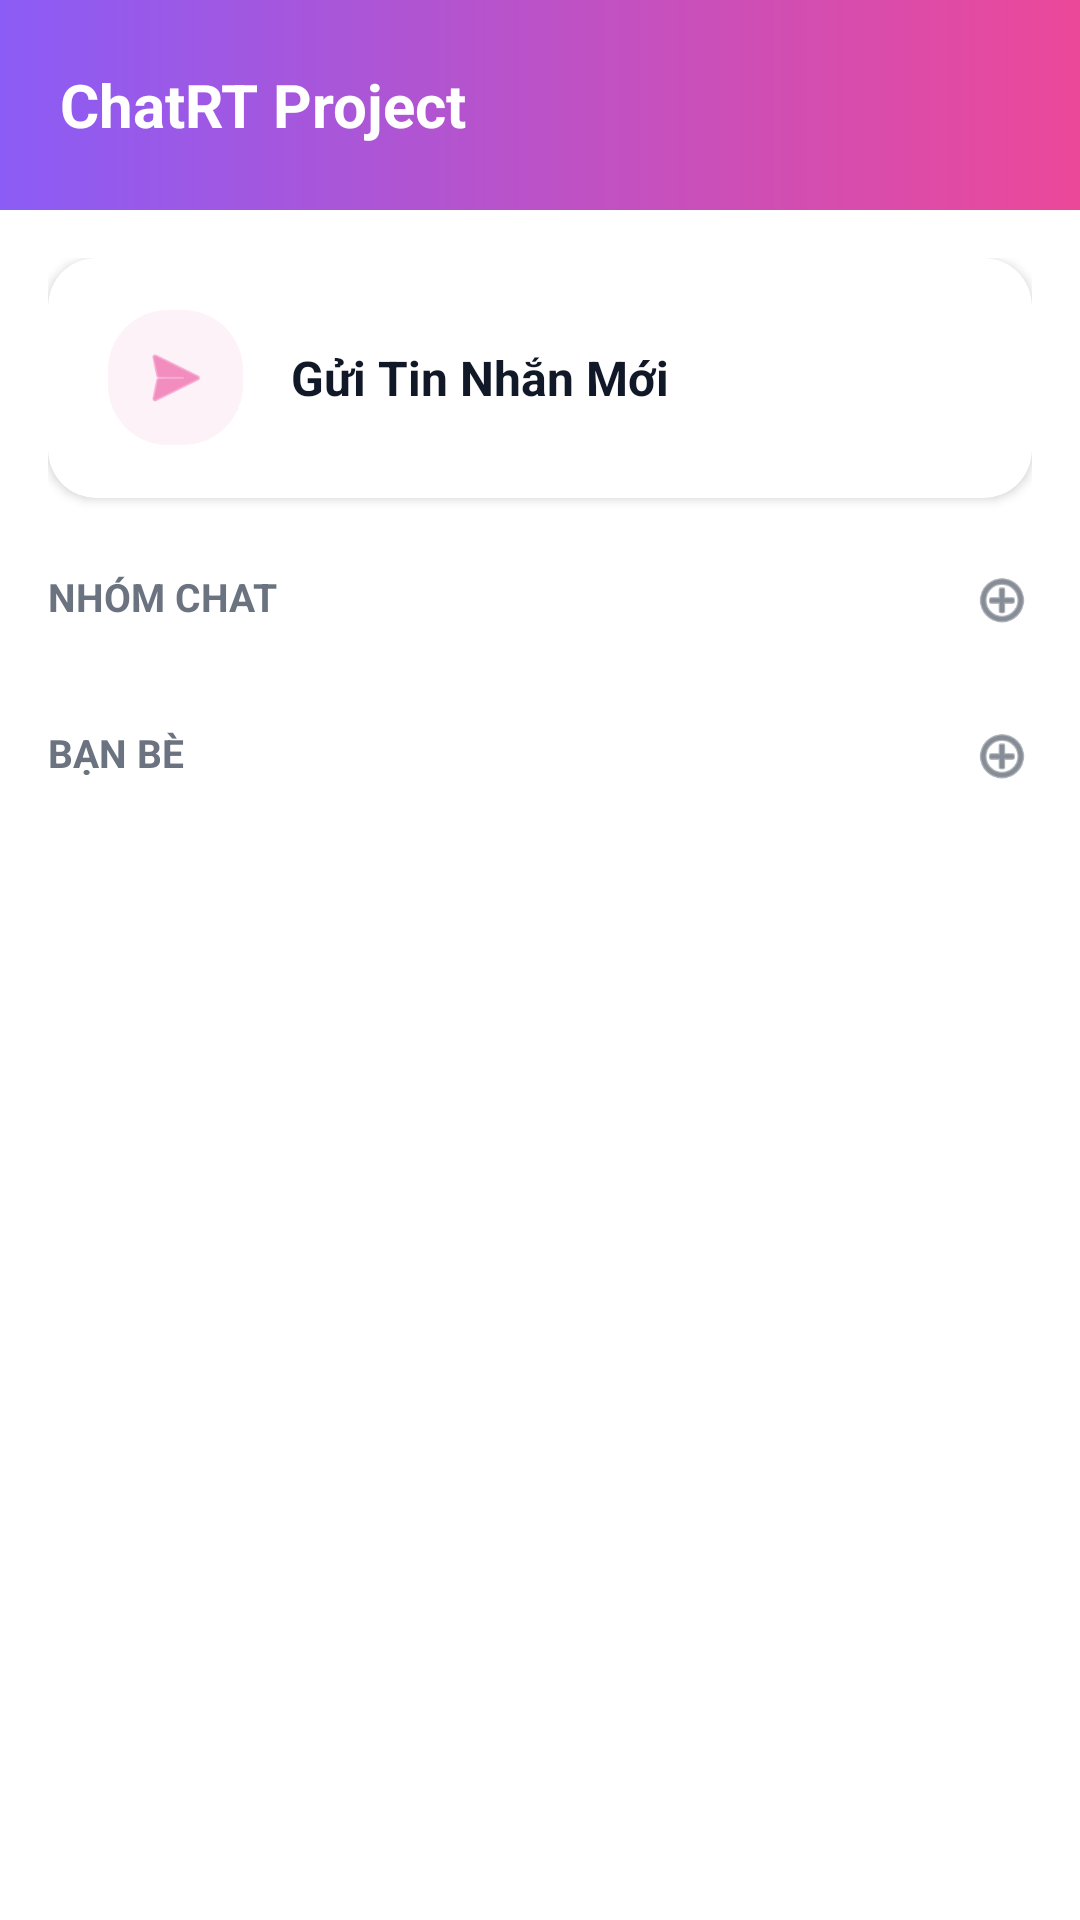

Where icons sit on this 1080×1920 app screen, as [left=x1, top=y1, right=x2, bottom=y2]:
add: [left=980, top=578, right=1024, bottom=623], [left=980, top=734, right=1024, bottom=779]
send: [left=152, top=354, right=200, bottom=402]
